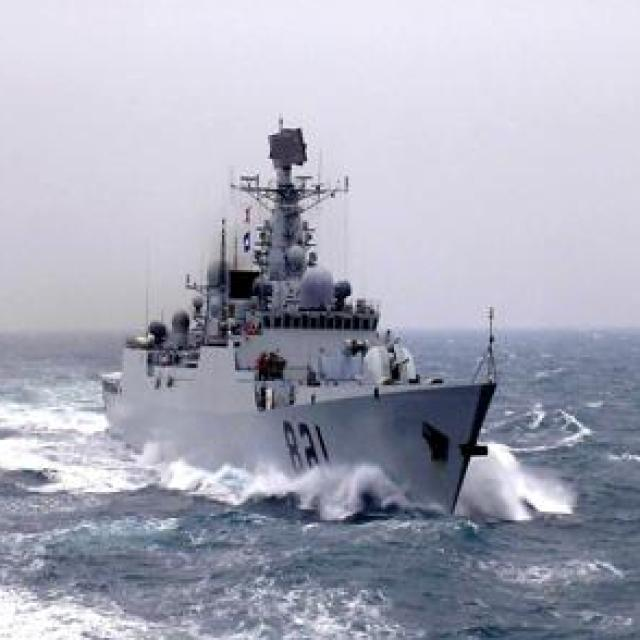navalvessels: (96, 116, 498, 511)
